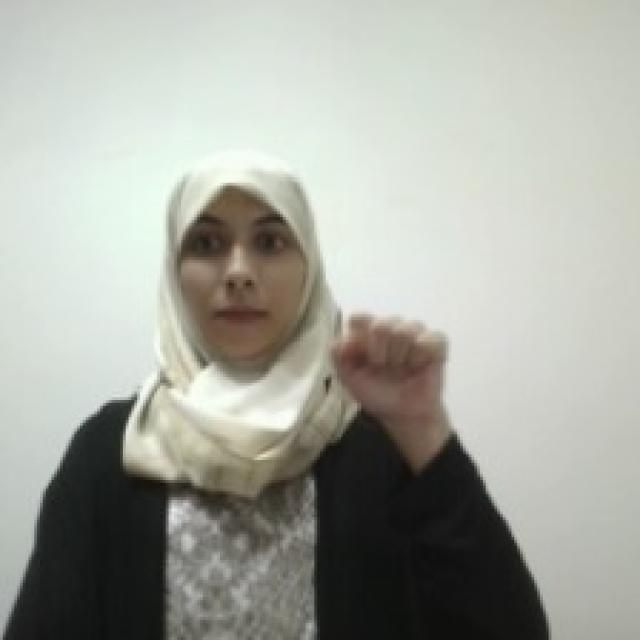yes: (329, 301, 454, 422)
